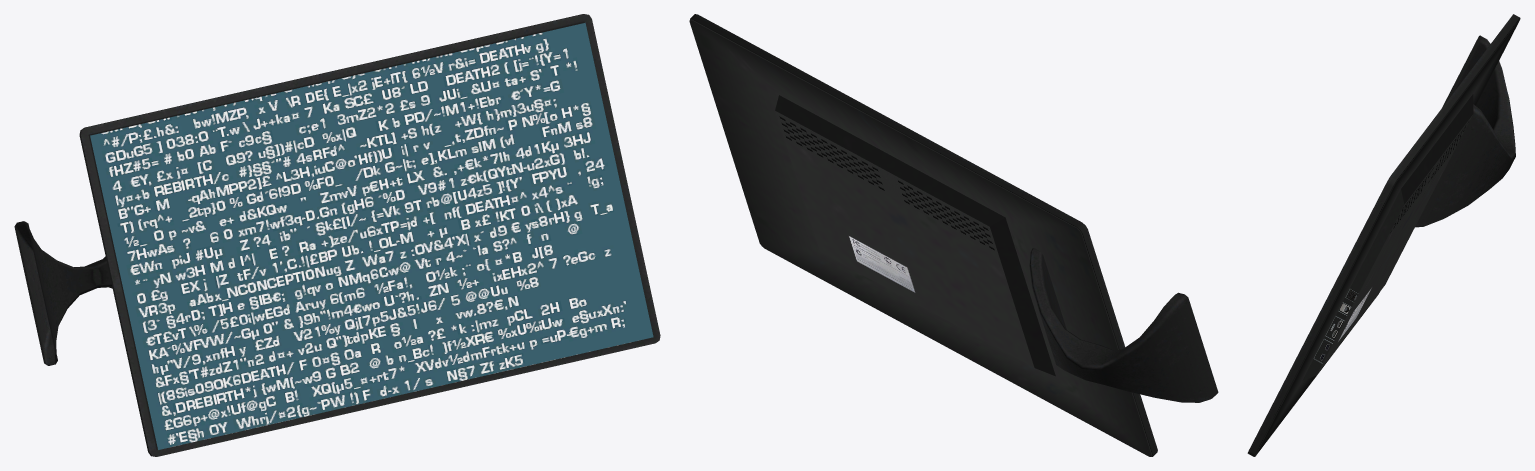
Rendered from monitor_large_right_up_gibberish.dae.
3 renders of one model, left to right at view 1: azimuth 30°, elevation 25°; view 2: azimuth 150°, elevation 25°; view 3: azimuth 270°, elevation 25°, orthographic. The views are drawn at different scales.
Parts seen in each view (by area): view 1: screen4, monRT; view 2: monRT; view 3: monRT.
Part boxes in pixels (x1,y1,x2,y2): screen4: (90,22,653,449); monRT: (14,14,660,456); monRT: (689,14,1218,456); monRT: (1247,14,1520,456).
Size of the model in its own units: 0.5706 by 0.3403 by 0.2535.
